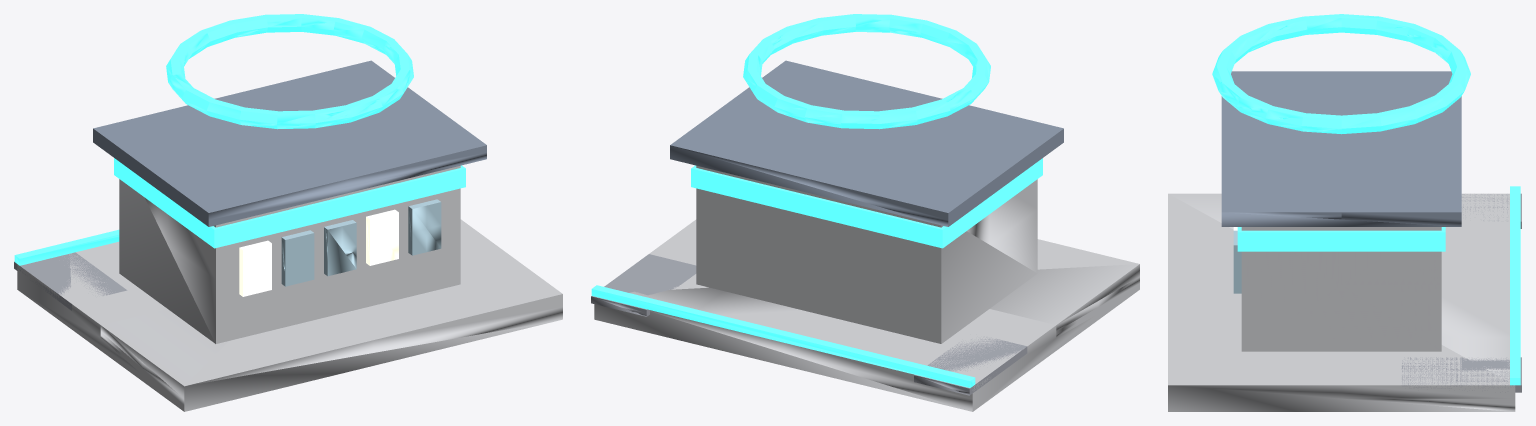
Rendered from interchange.glb.
The picture shows the model from 3 angles, left to right: view 1: azimuth 30°, elevation 25°; view 2: azimuth 150°, elevation 25°; view 3: azimuth 270°, elevation 25°; orthographic projection. The views are drawn at different scales.
Parts seen in each view (by area): view 1: MetroInterchange; view 2: MetroInterchange; view 3: MetroInterchange.
Part boxes in pixels (bbox=[...]): MetroInterchange: bbox=[14, 14, 562, 411]; MetroInterchange: bbox=[591, 14, 1139, 411]; MetroInterchange: bbox=[1168, 14, 1521, 411].
Size of the model in its own units: 3.4 by 2.06 by 2.65.
